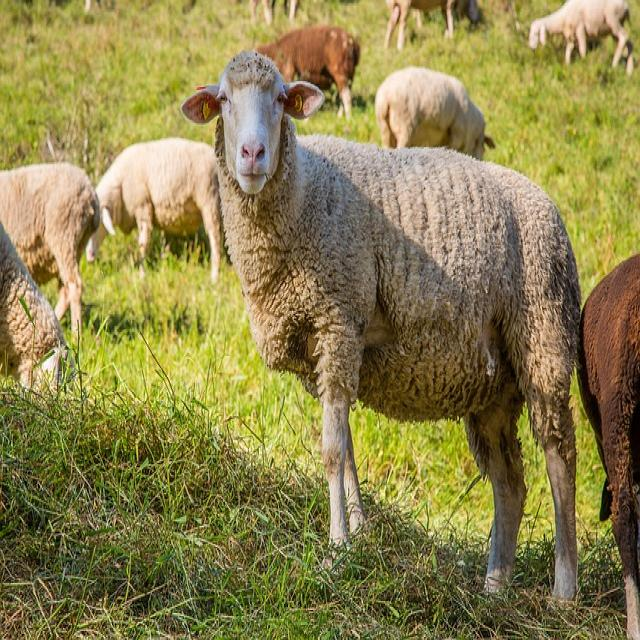goat: (185, 51, 582, 602), (94, 138, 228, 278), (0, 164, 103, 331)
